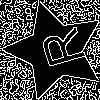R: (30, 25, 87, 73)
